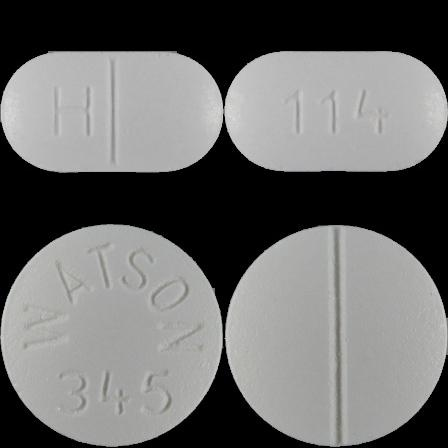68788-6391: (0, 0, 224, 224)
